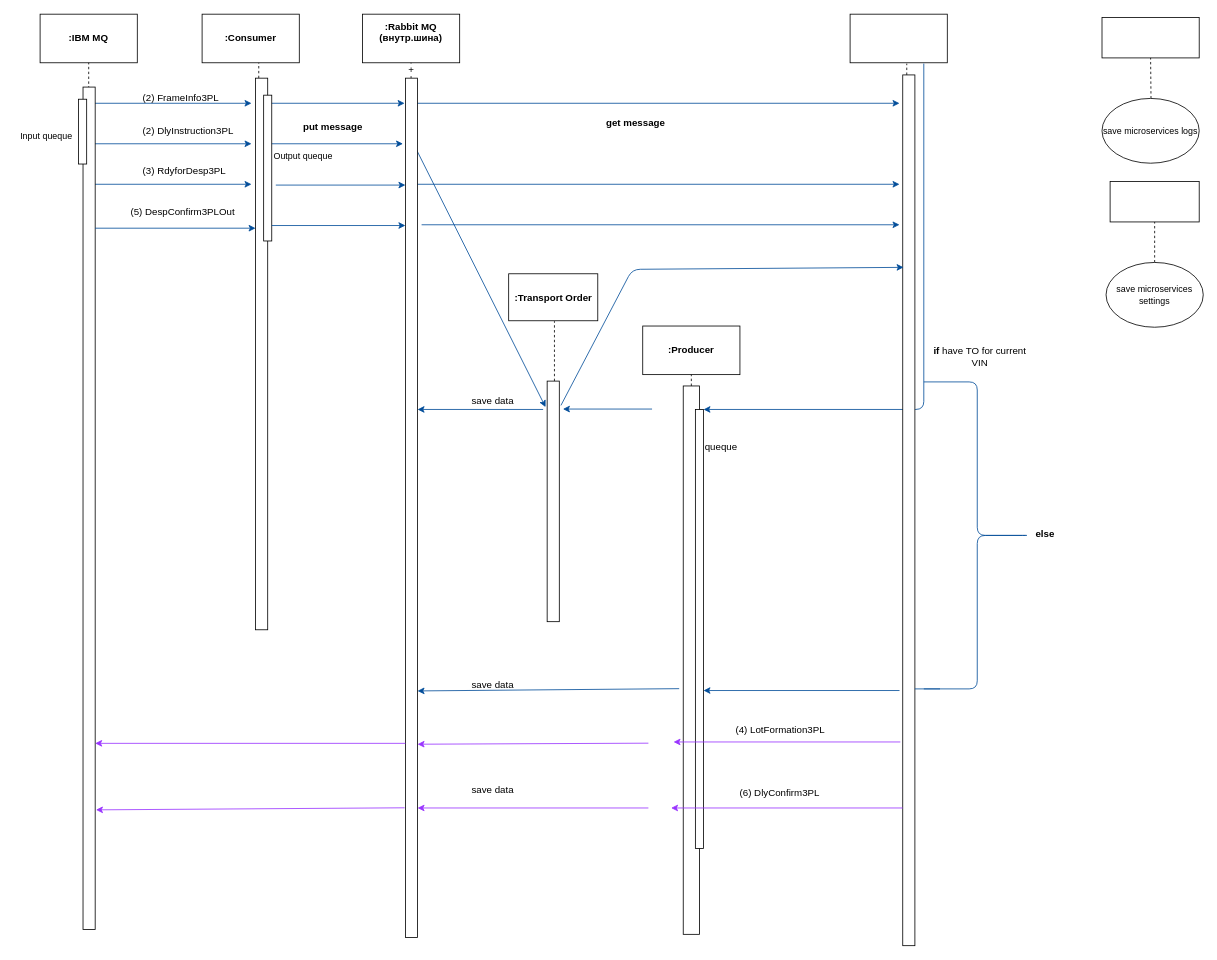
The diagram is 1217 pixels wide and 960 high, and some of its shapes have lost their labels. The centre of each missing label's shape, as x and y in pixels:
:AMT: (x=898, y=38)
:Config: (x=1150, y=37)
:Elasticsearch: (x=1154, y=201)
